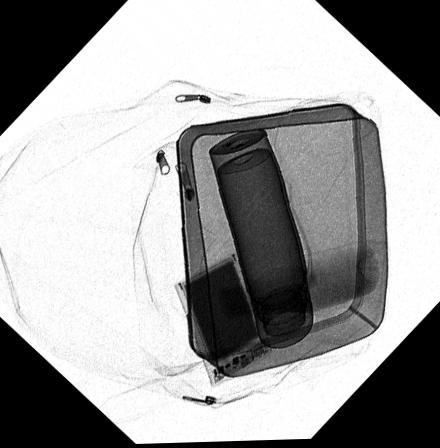Powerbank: (173, 252, 273, 389)
